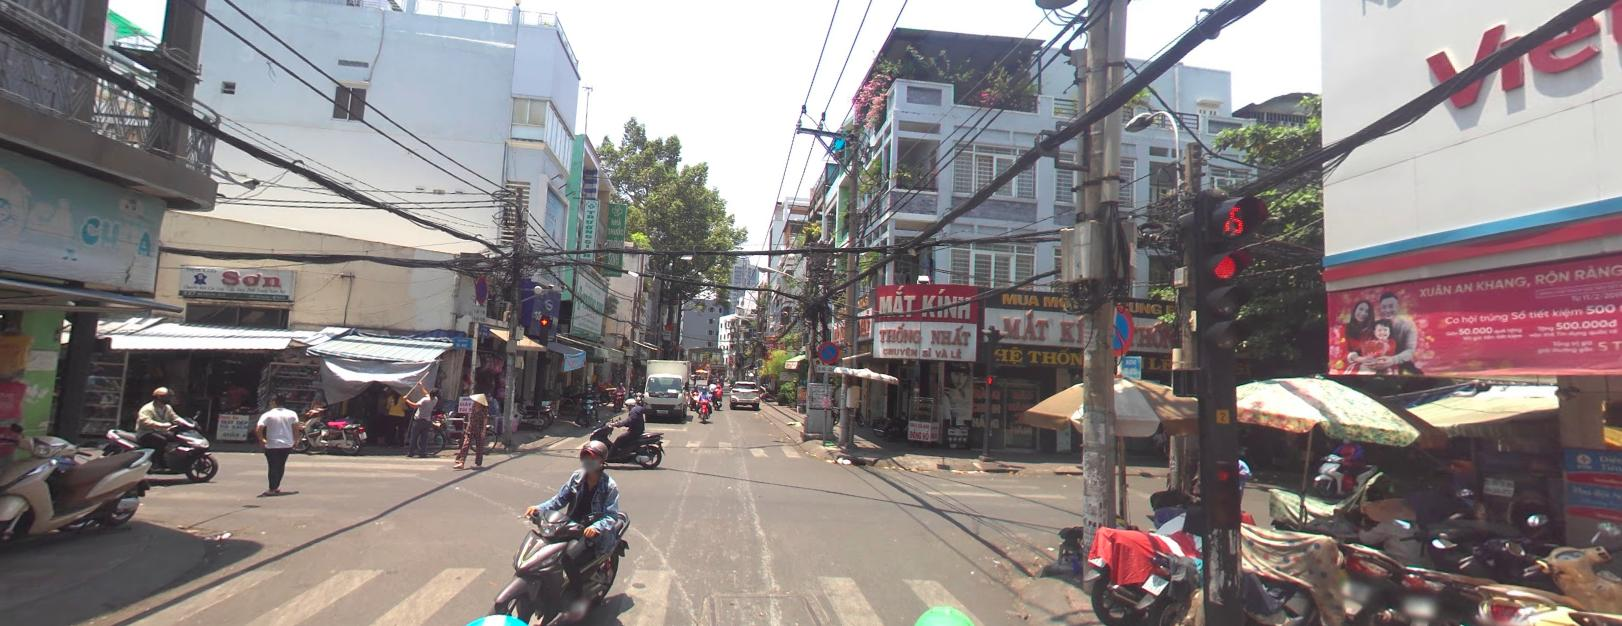Cam dung va do: (1098, 299, 1134, 355), (817, 340, 839, 362), (475, 275, 486, 303)
